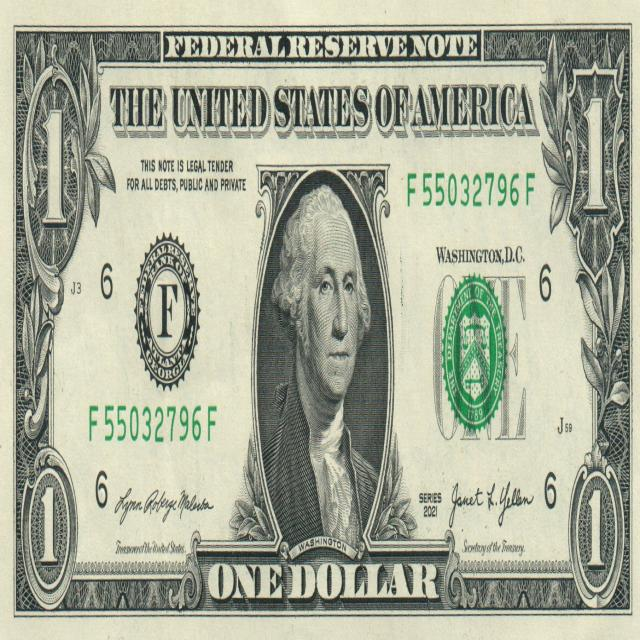SerialNumber: (90, 405, 216, 441), (407, 173, 534, 207)
